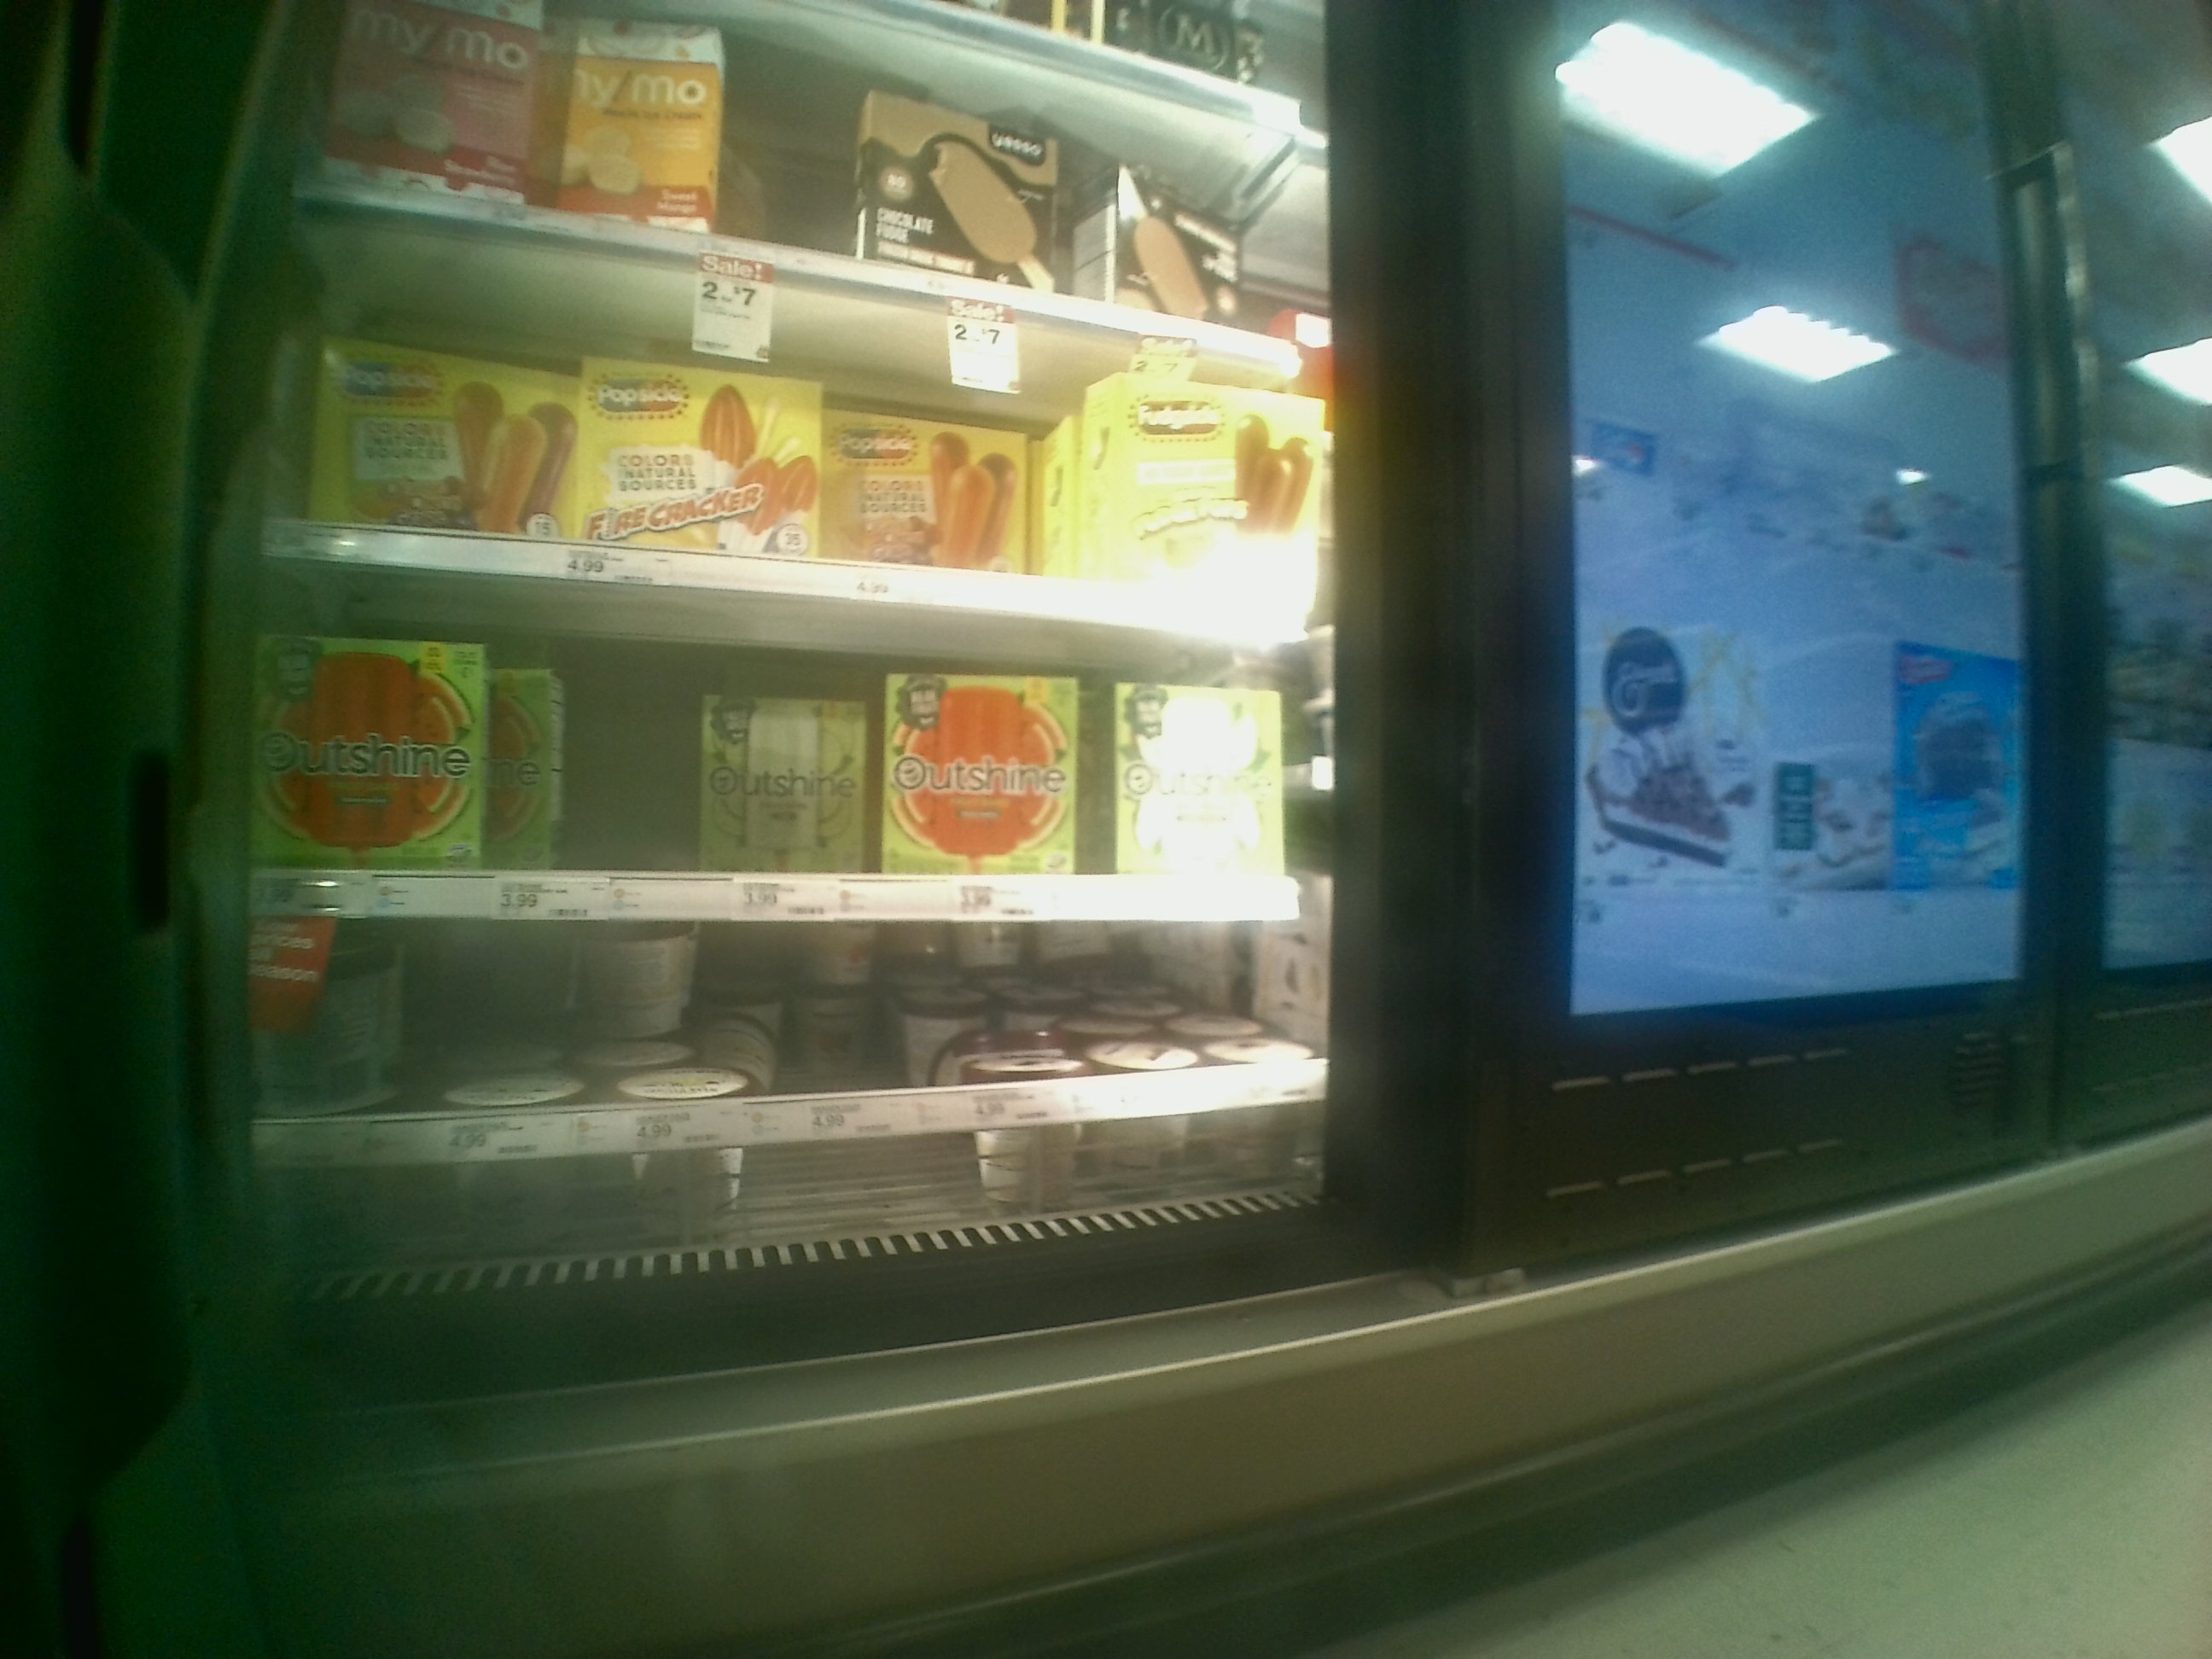ice-cream-shelf: (251, 915, 1334, 1150)
